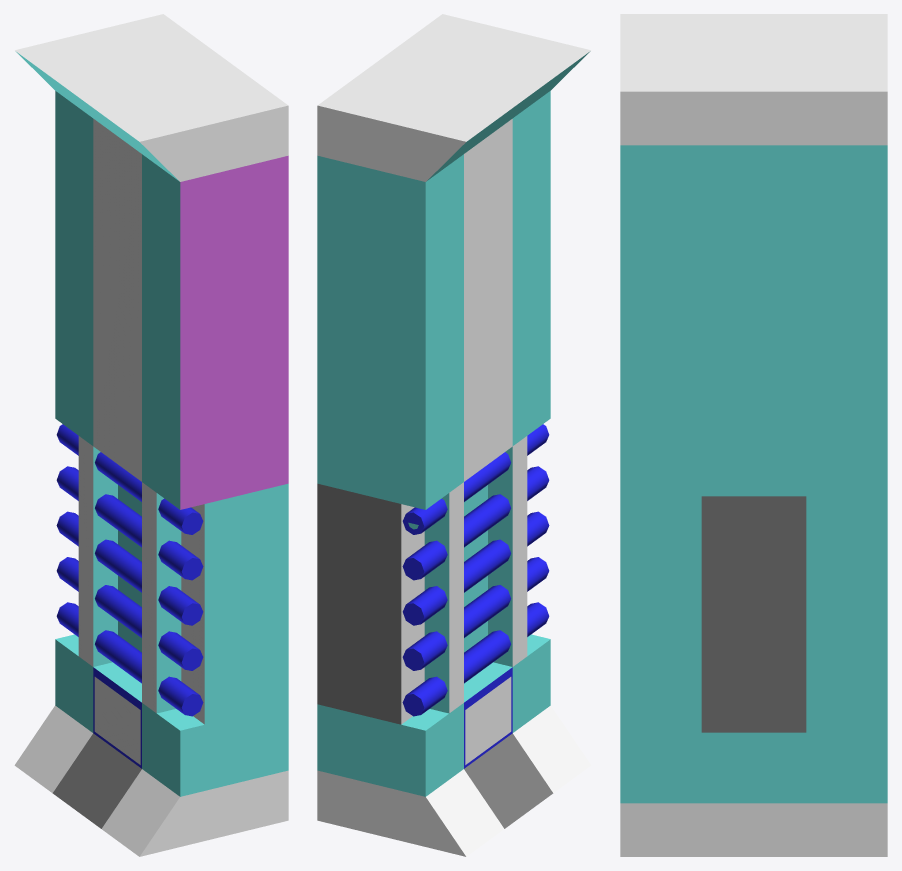
The model's file is WallBaseTall.fbx.
3 renders of one model, left to right at view 1: azimuth 30°, elevation 25°; view 2: azimuth 150°, elevation 25°; view 3: azimuth 270°, elevation 25°, orthographic. The views are drawn at different scales.
Visible parts, largest first — view 1: BaseTall; view 2: BaseTall; view 3: BaseTall.
Part boxes in pixels (bbox=[...]): BaseTall: bbox=[14, 14, 288, 856]; BaseTall: bbox=[317, 14, 591, 856]; BaseTall: bbox=[620, 14, 887, 856].
Size of the model in its own units: 54.17 by 248 by 78.74.
